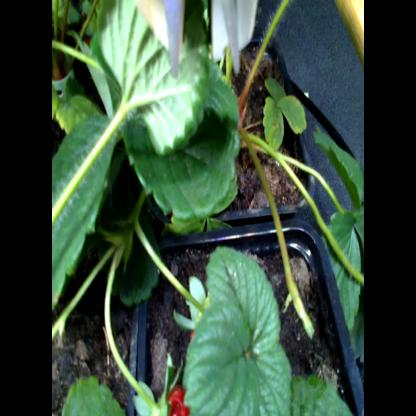ripe: (161, 369, 206, 416)
